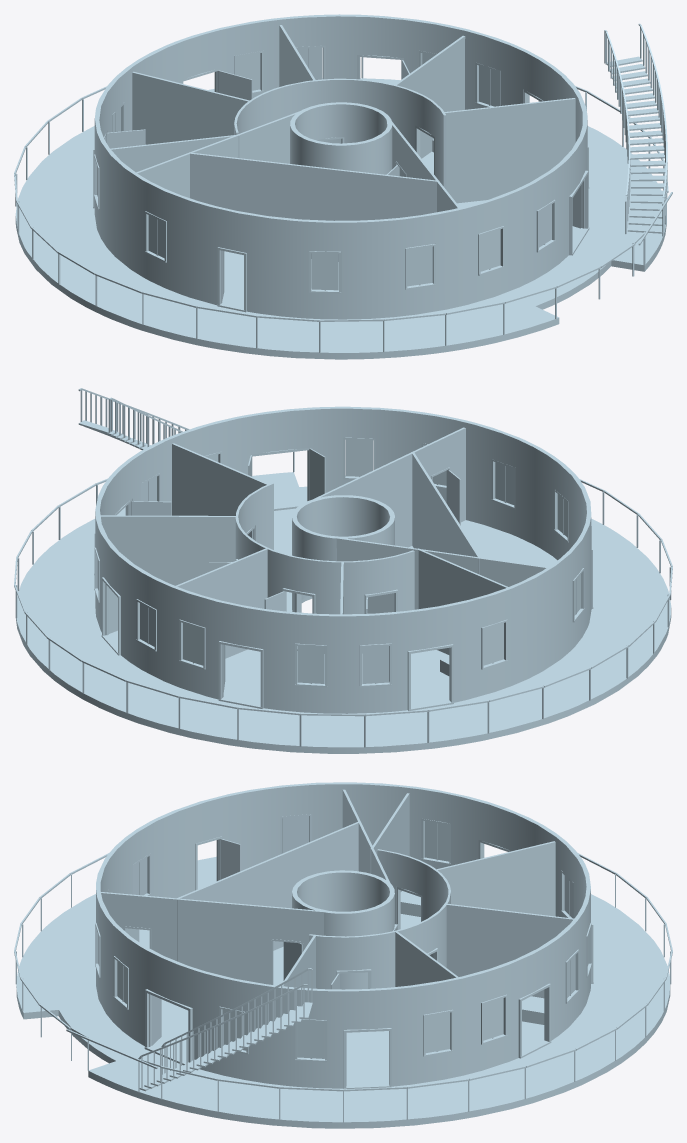
The model's file is tower_floor_mid_lod1.glb.
3 views of the same model, one above another, from view 1: azimuth 30°, elevation 25°; view 2: azimuth 150°, elevation 25°; view 3: azimuth 270°, elevation 25° (orthographic).
Visible parts, largest first — view 1: Facade 1, Slab 1, Radial demise wall (×5), Bedroom-bath wall, Corridor wall 1, Elevator shell 1, Window glass (×7), Core tangent wall, Door leaf (×2), Living-bedroom separator; view 2: Facade 1, Slab 1, Radial demise wall (×4), Corridor wall 1, Window glass (×7), Elevator shell 1, Living-bedroom separator (×3), Core tangent wall, Bedroom-bath wall, Door leaf (×2), Main door leaf, Separator door leaf (bed); view 3: Facade 1, Slab 1, Radial demise wall (×5), Living-bedroom separator (×5), Corridor wall 1, Bedroom-bath wall, Elevator shell 1, Window glass (×5), Core tangent wall, Door leaf, Main door leaf, Bed (single).
Part boxes in pixels (box(x1,y1,x2,y2)): Facade 1: box(94, 14, 587, 319); Slab 1: box(15, 78, 666, 359); Radial demise wall (×5): box(110, 25, 575, 203); Bedroom-bath wall: box(188, 152, 438, 261); Corridor wall 1: box(234, 78, 446, 189); Elevator shell 1: box(290, 102, 392, 174); Window glass (×7): box(148, 47, 500, 290); Core tangent wall: box(136, 111, 299, 197); Door leaf (×2): box(104, 70, 252, 148); Living-bedroom separator: box(406, 142, 446, 212); Facade 1: box(95, 406, 591, 713); Slab 1: box(16, 472, 671, 753); Radial demise wall (×4): box(100, 443, 507, 658); Corridor wall 1: box(235, 482, 414, 653); Window glass (×7): box(140, 439, 514, 683); Elevator shell 1: box(292, 495, 394, 612); Living-bedroom separator (×3): box(348, 427, 465, 547); Core tangent wall: box(336, 538, 547, 613); Bedroom-bath wall: box(411, 452, 480, 573); Door leaf (×2): box(105, 501, 171, 634); Main door leaf: box(307, 448, 325, 500); Separator door leaf (bed): box(448, 470, 460, 525); Facade 1: box(96, 782, 590, 1088); Slab 1: box(16, 856, 670, 1128); Radial demise wall (×5): box(282, 793, 573, 998); Living-bedroom separator (×5): box(101, 892, 323, 984); Corridor wall 1: box(309, 849, 450, 989); Bedroom-bath wall: box(175, 821, 360, 960); Elevator shell 1: box(292, 870, 394, 989); Window glass (×5): box(282, 816, 503, 1058); Core tangent wall: box(342, 789, 390, 883); Door leaf: box(218, 839, 240, 880); Main door leaf: box(149, 994, 161, 1046); Bed (single): box(522, 996, 544, 1024).
Size of the model in its own units: 20.15 by 4.84 by 20.15.
